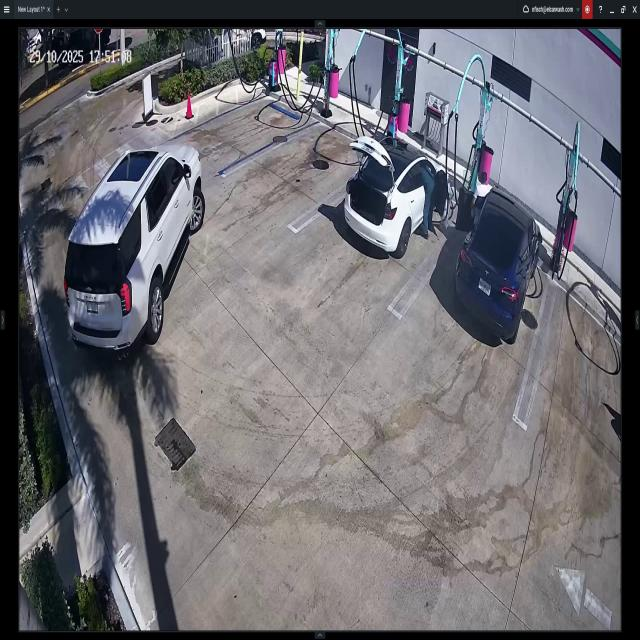Car: (65, 147, 205, 341), (344, 134, 450, 266), (454, 186, 542, 341)
